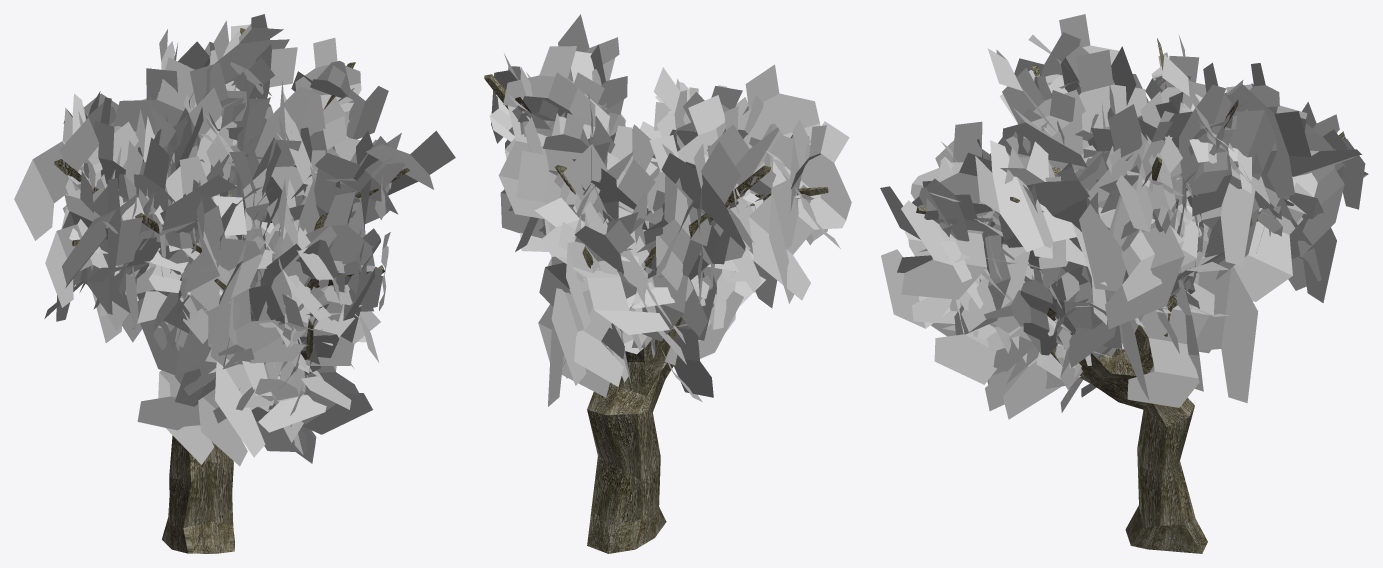
File: Arbol_07.fbx
3 renders of one model, left to right at view 1: azimuth 30°, elevation 25°; view 2: azimuth 150°, elevation 25°; view 3: azimuth 270°, elevation 25°, orthographic. The views are drawn at different scales.
Parts seen in each view (by area): view 1: Tree_Cañada01.006; view 2: Tree_Cañada01.006; view 3: Tree_Cañada01.006.
Part boxes in pixels (<box>): Tree_Cañada01.006: <box>14,14,455,553</box>; Tree_Cañada01.006: <box>484,14,851,553</box>; Tree_Cañada01.006: <box>880,14,1368,553</box>.
Bounding box in the file's own units: 23.35 × 32.04 × 27.59.
